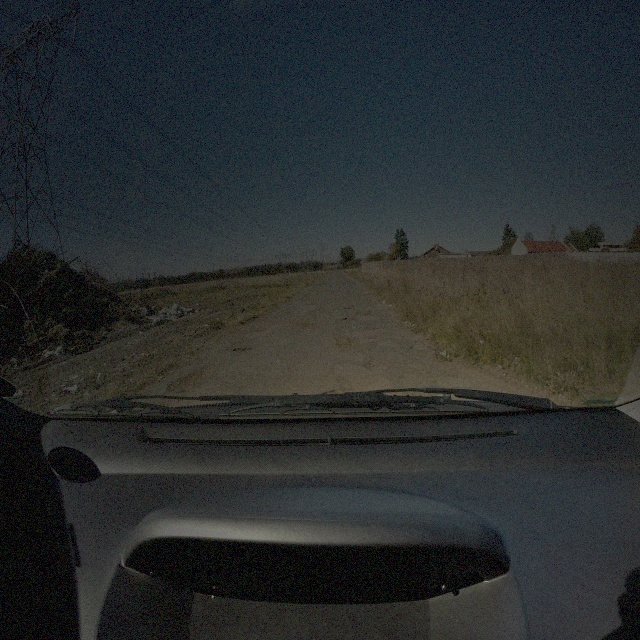pothole: (364, 360, 388, 374), (334, 337, 359, 350), (298, 321, 318, 331), (342, 314, 362, 322), (234, 346, 252, 354), (372, 327, 387, 334), (346, 304, 359, 310), (361, 312, 373, 318), (305, 300, 317, 306), (369, 337, 379, 342)
